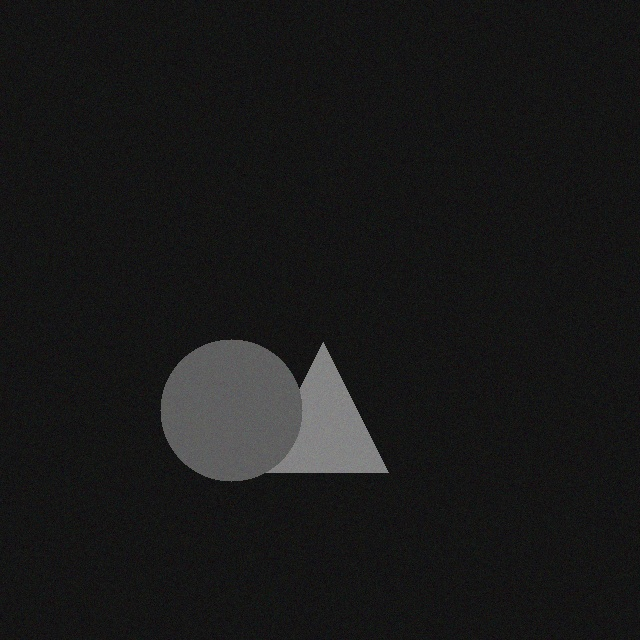circle: (146, 330, 288, 472)
triangle: (244, 333, 374, 463)
